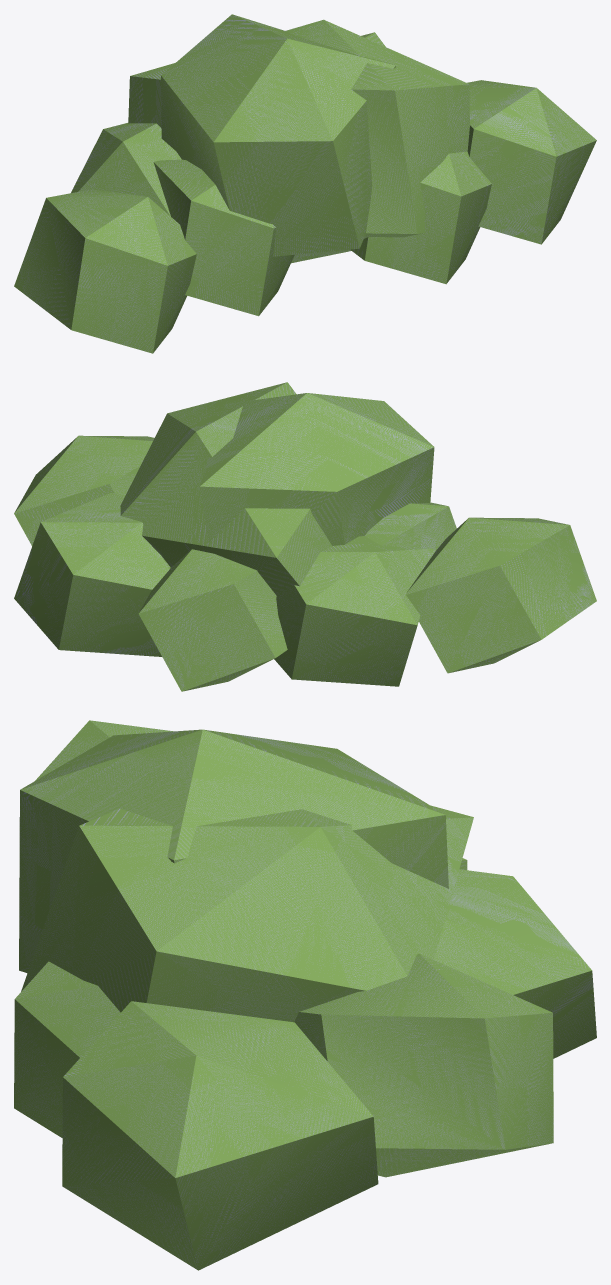
Rendered from Bush_Large_02.fbx.
The picture shows the model from 3 angles, top to bottom: view 1: azimuth 30°, elevation 25°; view 2: azimuth 150°, elevation 25°; view 3: azimuth 270°, elevation 25°; orthographic projection. The views are drawn at different scales.
Parts seen in each view (by area): view 1: Model; view 2: Model; view 3: Model.
Part boxes in pixels (box(x1,y1,x2,y2)): Model: box(14, 14, 596, 353); Model: box(14, 382, 596, 691); Model: box(14, 720, 596, 1270).
Size of the model in its own units: 513 by 214 by 322.
